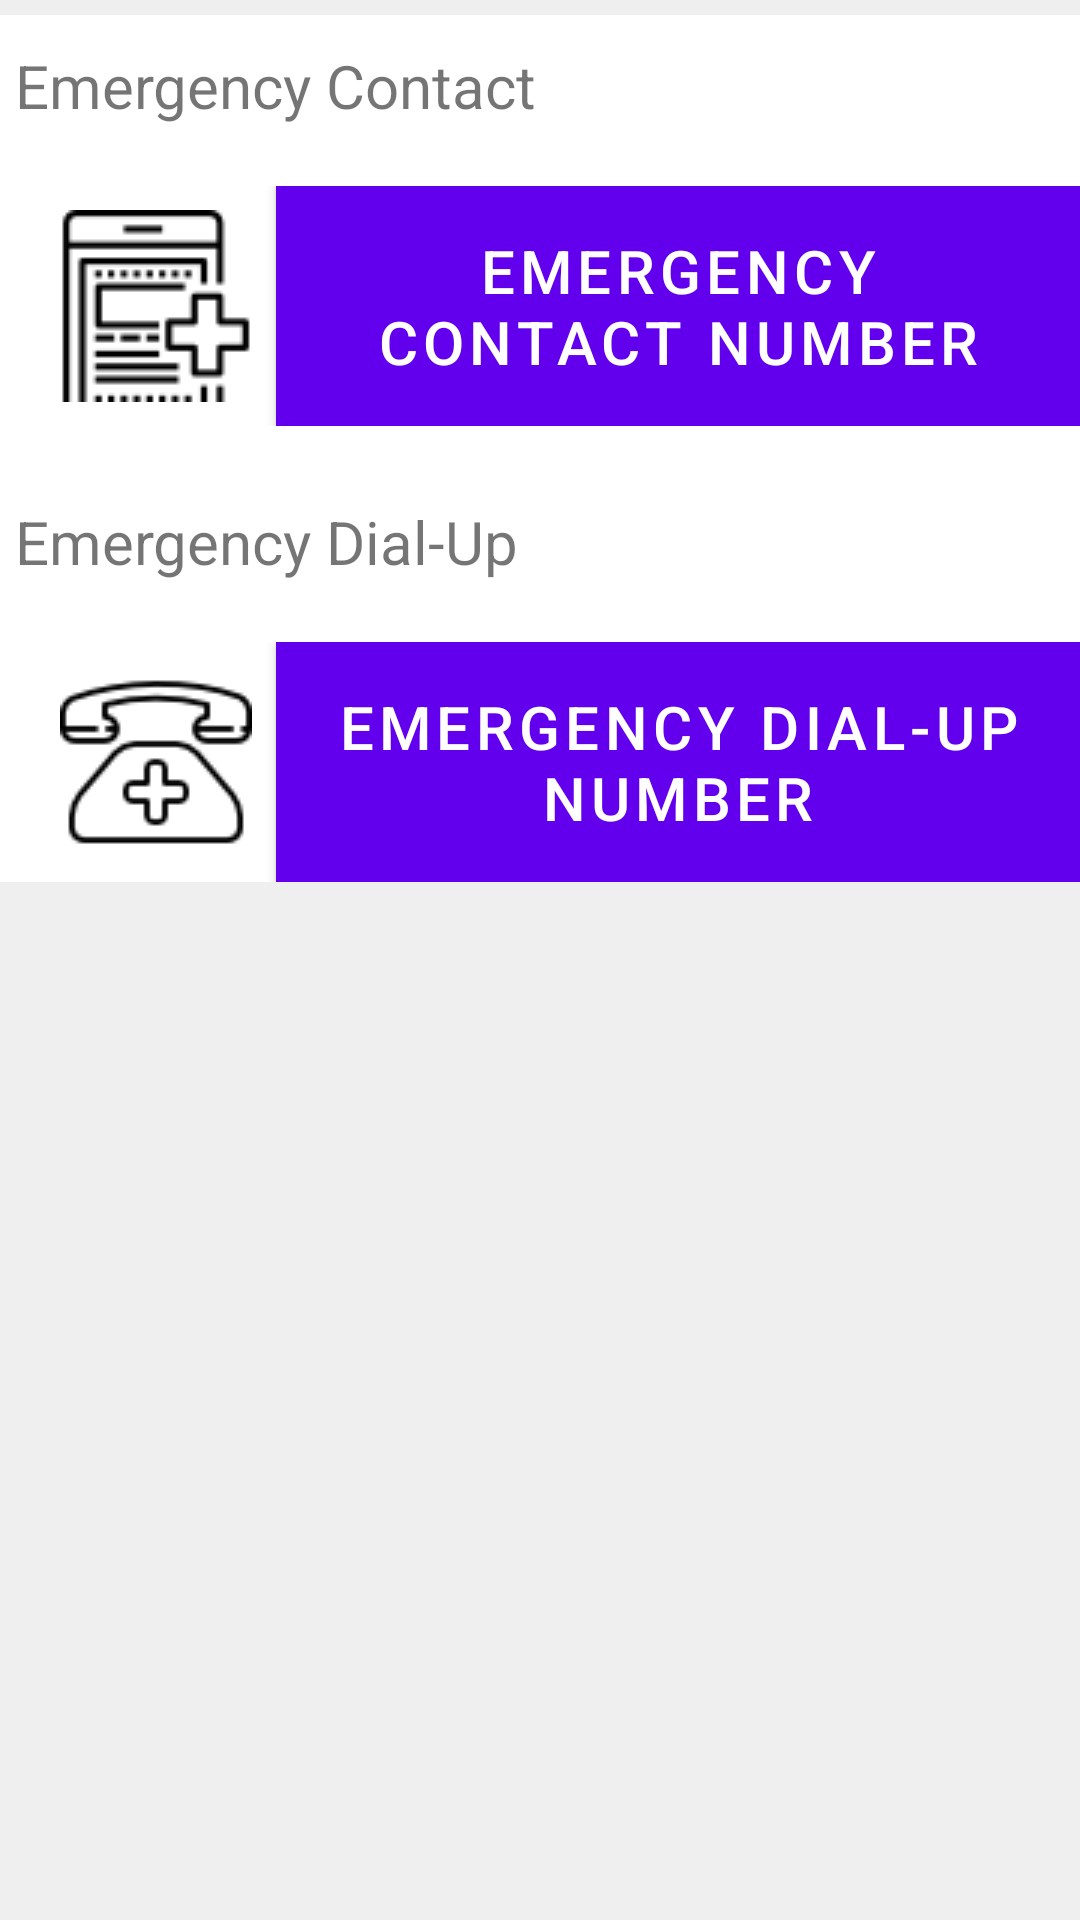

Icon click points for this 1080 x 1920 phone screenshot, format [x,y]:
smartphone: [156,306]
telephone: [156,762]
